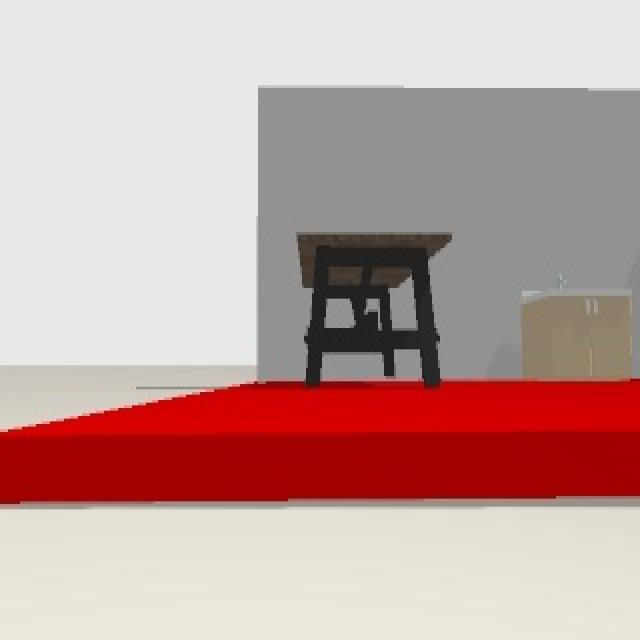dining: (296, 228, 451, 388)
